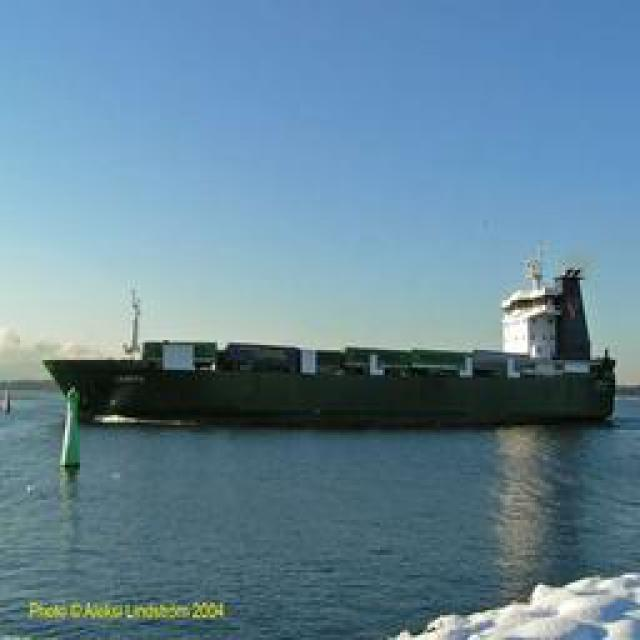Ship: (44, 263, 619, 431)
